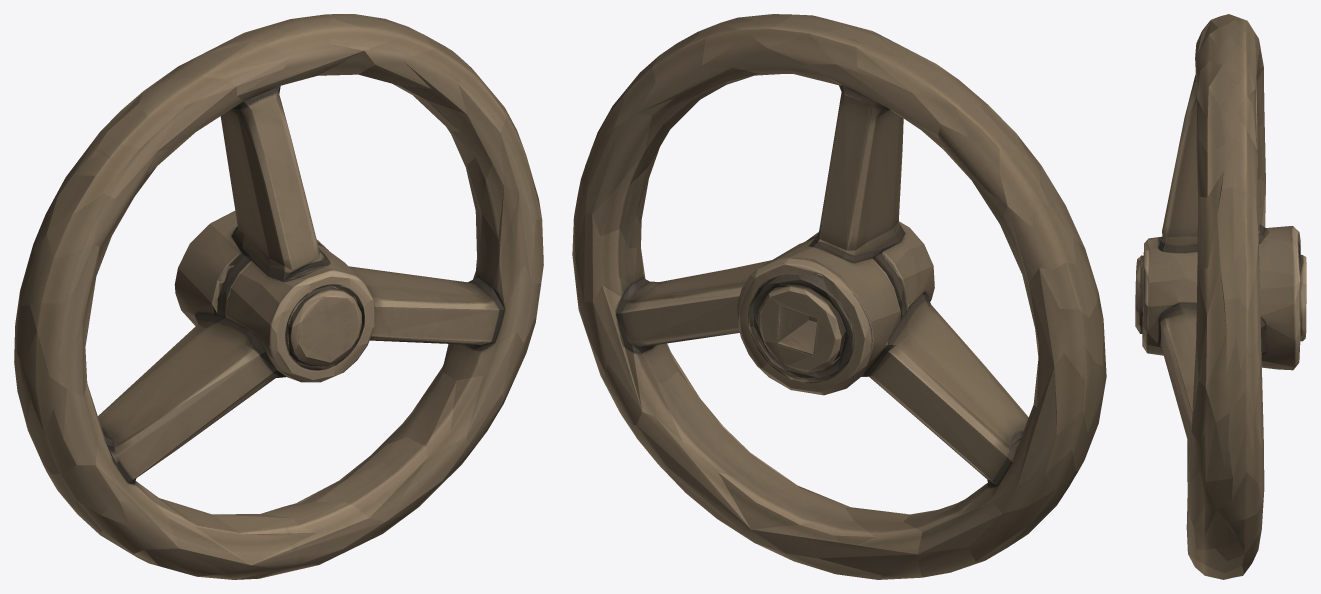
Rendered from shturval-koleso.glb.
3 renders of one model, left to right at view 1: azimuth 30°, elevation 25°; view 2: azimuth 150°, elevation 25°; view 3: azimuth 270°, elevation 25°, orthographic. The views are drawn at different scales.
Parts seen in each view (by area): view 1: shturval-koleso; view 2: shturval-koleso; view 3: shturval-koleso.
Boxes of the visible parts, x1,y1,x2,y2 form: shturval-koleso: [14, 14, 543, 579]; shturval-koleso: [572, 14, 1106, 579]; shturval-koleso: [1135, 14, 1306, 579].
Bounding box in the file's own units: 0.55 × 0.55 × 0.1664.
Materials: 1 (1 with a texture image).
